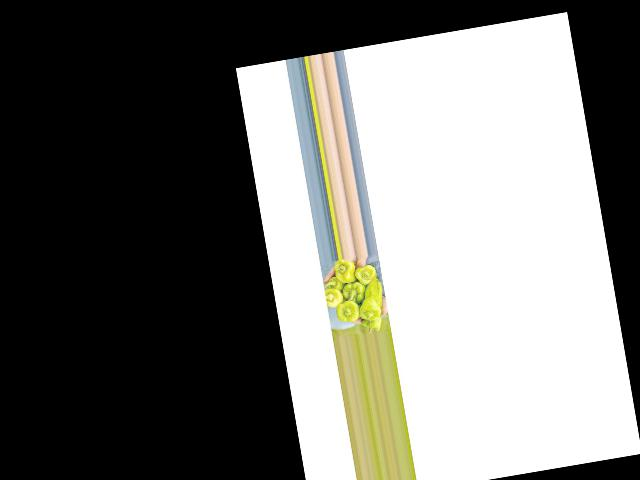bell_pepper: (330, 258, 356, 286)
